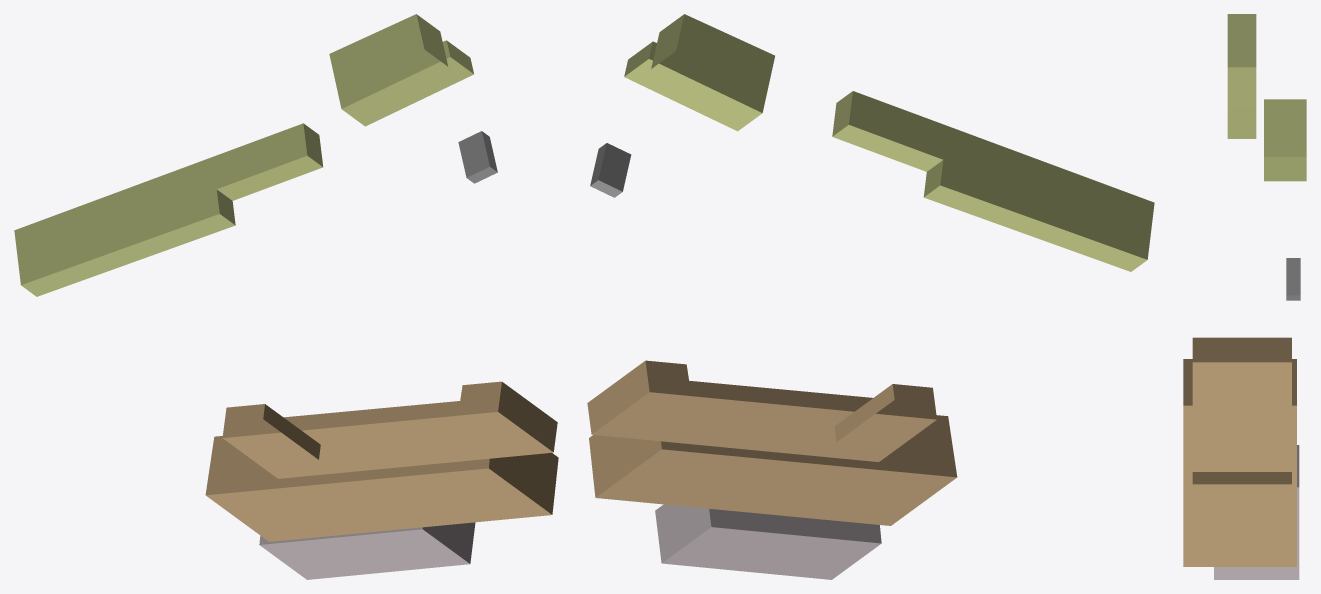
3 views of the same model, side by side, from view 1: azimuth 30°, elevation 25°; view 2: azimuth 150°, elevation 25°; view 3: azimuth 270°, elevation 25° (orthographic). The views are drawn at different scales.
Visible parts, largest first — view 1: 0_3_2_3_2_1_1; view 2: 0_3_2_3_2_1_1; view 3: 0_3_2_3_2_1_1.
Boxes of the visible parts, box(x1,y1,x2,y2) form: 0_3_2_3_2_1_1: box(14, 14, 558, 579); 0_3_2_3_2_1_1: box(587, 14, 1154, 579); 0_3_2_3_2_1_1: box(1183, 14, 1306, 579).
Bounding box in the file's own units: 111 × 107 × 26.06.
